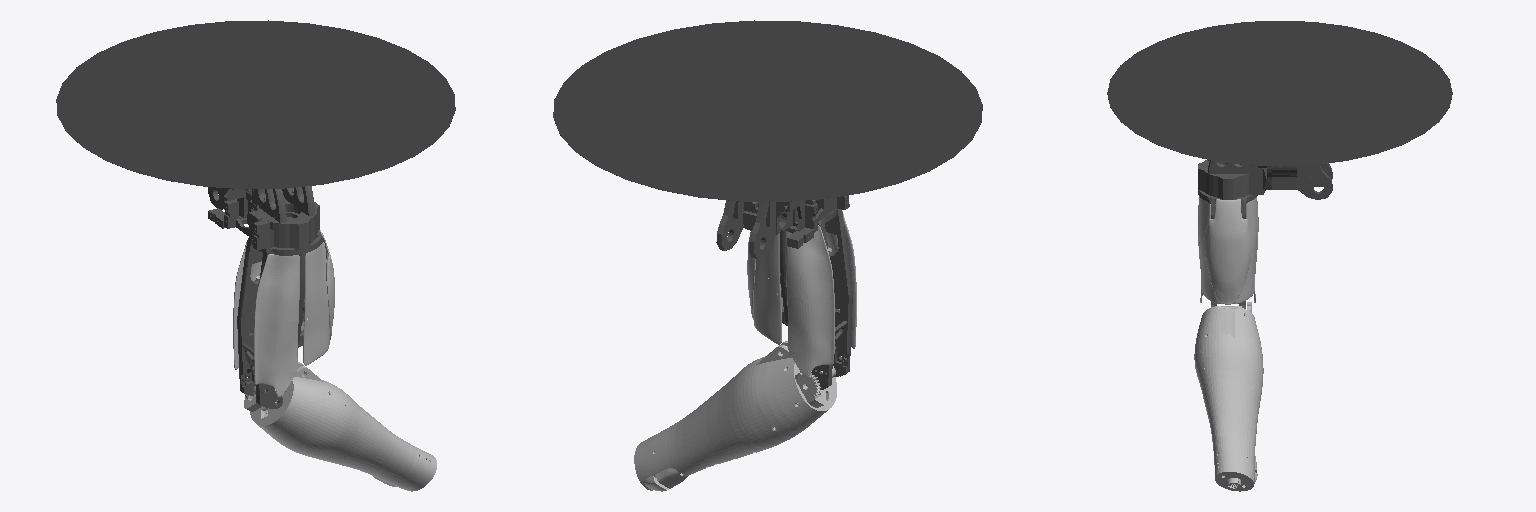
The robot description file, URDF, robot "inmoov_hand":
<?xml version="1.0" ?>
<!-- =================================================================================== -->
<!-- |    This document was autogenerated by xacro from refactor.urdf.xacro            | -->
<!-- |    EDITING THIS FILE BY HAND IS NOT RECOMMENDED                                 | -->
<!-- =================================================================================== -->
<robot name="inmoov_hand" xmlns:xacro="http://ros.org/wiki/xacro">
  <link name="base_link">
    <visual>
      <geometry>
        <cylinder length="0.0001" radius="0.26"/>
      </geometry>
      <origin rpy="0 0 0" xyz="0 0 0.055"/>
      <material name="invisible">
        <color rgba="0.3 0.3 0.3 0"/>
      </material>
    </visual>
  </link>
  <link name="r_shoulder_base_link">
    <visual>
      <geometry>
        <mesh filename="package://inmoov_meshes/meshes/r_shoulder_base.stl" scale="0.001 0.001 0.001"/>
      </geometry>
      <origin rpy="0 0 0" xyz="0 0 0"/>
      <material name="cframe">
        <color rgba="0.40 0.40 0.40 1"/>
      </material>
    </visual>
  </link>
  <link name="r_shoulder_link">
    <visual>
      <geometry>
        <mesh filename="package://inmoov_meshes/meshes/r_shoulder.stl" scale="0.001 0.001 0.001"/>
      </geometry>
      <origin rpy="0 0 0" xyz="0 0 0"/>
      <material name="cframe">
        <color rgba="0.40 0.40 0.40 1"/>
      </material>
    </visual>
  </link>
  <link name="r_bicep_link">
    <visual>
      <geometry>
        <mesh filename="package://inmoov_meshes/meshes/bicep.stl" scale="0.001 0.001 0.001"/>
      </geometry>
      <origin rpy="0 0 0" xyz="0 0 0"/>
      <material name="cframe">
        <color rgba="0.40 0.40 0.40 1"/>
      </material>
    </visual>
  </link>
  <link name="r_bicepcover_link">
    <visual>
      <geometry>
        <mesh filename="package://inmoov_meshes/meshes/bicepcover.stl" scale="0.001 0.001 0.001"/>
      </geometry>
      <origin rpy="0 0 0" xyz="0 0 0"/>
      <material name="ccover">
        <color rgba="0.75 0.75 0.75 1.0"/>
      </material>
    </visual>
  </link>
  <link name="r_forearm_link">
    <visual>
      <geometry>
        <mesh filename="package://inmoov_meshes/meshes/r_forearm.stl" scale="0.001 0.001 0.001"/>
      </geometry>
      <origin rpy="0 0 0" xyz="0.001 0 0"/>
      <material name="ccover">
        <color rgba="0.75 0.75 0.75 1.0"/>
      </material>
    </visual>
  </link>
  <joint name="r_shoulder_lift_joint" type="revolute">
    <axis xyz="0 1 0"/>
    <limit effort="1000.0" lower="0.7" upper="-2.5" velocity="0.5"/>
    <origin rpy="0 0 0" xyz="0 -0.012 -0.04"/>
    <parent link="r_shoulder_base_link"/>
    <child link="r_shoulder_link"/>
  </joint>
  <joint name="r_upper_arm_roll_joint" type="revolute">
    <axis xyz="0 0 1"/>
    <limit effort="1000.0" lower="-1.57" upper="1.57" velocity="0.5"/>
    <origin rpy="0 0 0" xyz="0 -0.066 -0.060"/>
    <parent link="r_shoulder_link"/>
    <child link="r_bicep_link"/>
  </joint>
  <joint name="r_elbow_flex_joint" type="revolute">
    <axis xyz="0 1 0"/>
    <limit effort="1000.0" lower="-0.4" upper="-1.57" velocity="0.5"/>
    <origin rpy="0 0 0" xyz="-0.0278 0 -0.2235"/>
    <parent link="r_bicep_link"/>
    <child link="r_forearm_link"/>
  </joint>
  <joint name="r_bicepcover_joint" type="fixed">
    <origin rpy="0 0 0" xyz="0 0 0"/>
    <parent link="r_bicep_link"/>
    <child link="r_bicepcover_link"/>
  </joint>
  <joint name="base_joint" type="revolute">
    <axis xyz="0 0 1"/>
    <limit effort="1000.0" lower="0" upper="3.1415" velocity="0.5"/>
    <origin rpy="0 0 0" xyz="0 0 0"/>
    <parent link="base_link"/>
    <child link="r_shoulder_base_link"/>
  </joint>
</robot>

--- Facts derived from the render (not from the file) ---
The picture shows the robot from 3 angles, left to right: view 1: azimuth 30°, elevation 25°; view 2: azimuth 150°, elevation 25°; view 3: azimuth 270°, elevation 25°; orthographic projection.
Robot: inmoov_hand — 6 links, 5 joints (4 revolute, 1 fixed); root link base_link; default pose: all joints at 0 but 1 set to mid-range because 0 is outside their limits (r_elbow_flex_joint = -0.985).
Visible links, largest first — view 1: base_link, r_forearm_link, r_bicepcover_link, r_shoulder_link, r_bicep_link, r_shoulder_base_link; view 2: base_link, r_forearm_link, r_bicepcover_link, r_bicep_link, r_shoulder_base_link, r_shoulder_link; view 3: base_link, r_forearm_link, r_bicepcover_link, r_shoulder_link, r_shoulder_base_link.
Boxes of the visible links, x1,y1,x2,y2 form: base_link: [56, 20, 455, 188]; r_forearm_link: [244, 362, 436, 491]; r_bicepcover_link: [233, 230, 334, 396]; r_shoulder_link: [223, 186, 319, 249]; r_bicep_link: [237, 231, 327, 408]; r_shoulder_base_link: [208, 187, 246, 228]; base_link: [553, 20, 982, 201]; r_forearm_link: [634, 341, 836, 491]; r_bicepcover_link: [747, 211, 856, 378]; r_bicep_link: [780, 208, 852, 389]; r_shoulder_base_link: [716, 200, 813, 258]; r_shoulder_link: [793, 195, 849, 232]; base_link: [1107, 21, 1452, 166]; r_forearm_link: [1194, 302, 1263, 491]; r_bicepcover_link: [1198, 196, 1258, 304]; r_shoulder_link: [1198, 160, 1271, 199]; r_shoulder_base_link: [1272, 163, 1332, 199].
Size in the robot's own frame: 0.52 by 0.52 by 0.5716 metres.
Meshes: 5 distinct files referenced, 5 mesh visuals loaded (5 binary STL).